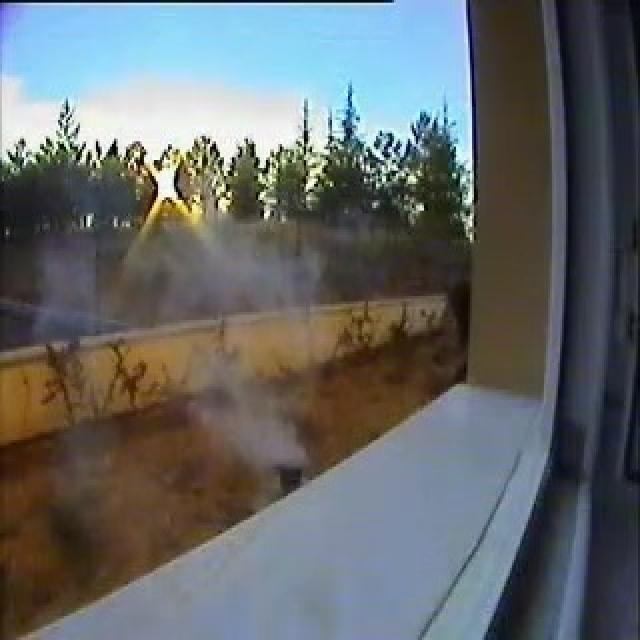smoke: (195, 374, 298, 464)
